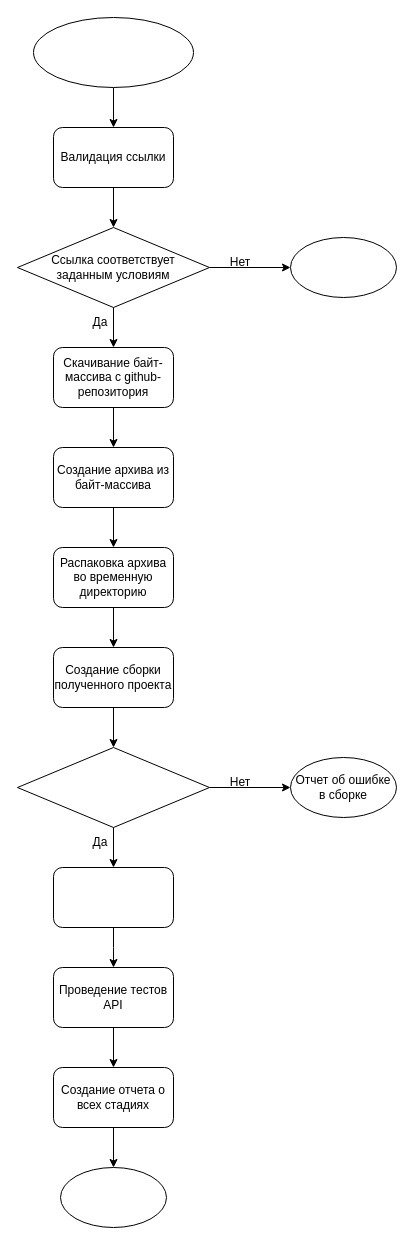
This 414x1245 diagram has some shape labels left out. Each missing label, with the centre of its shape:
Полный отчет по тестированию: pixel 113 1197
Получение ссылки на github-репозиторий с тестовым заданием: pixel 113 52
Проверка на наличие замечаний Resharper: pixel 113 897
Сборка прошла успешно?: pixel 113 787
Сообщение о неверной ссылке: pixel 343 267
